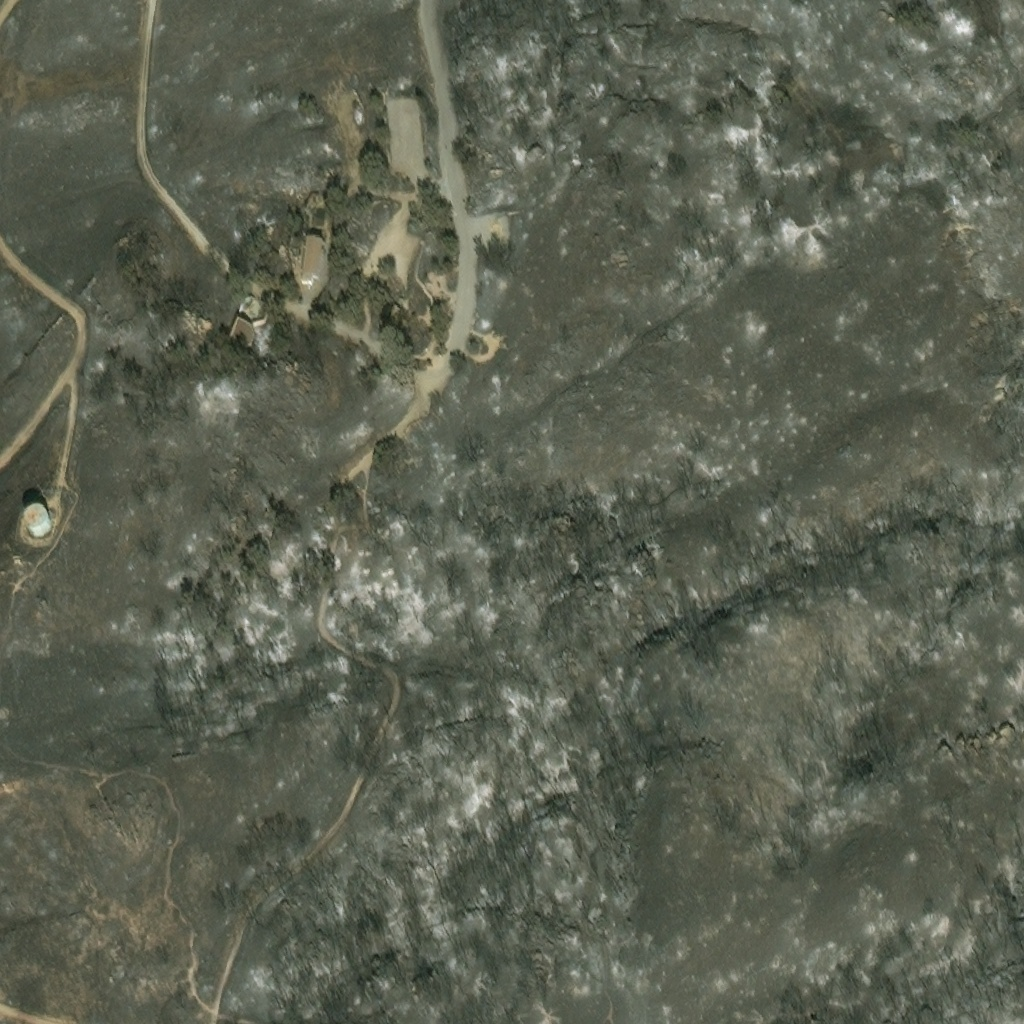0 no-damage: (237, 295, 268, 334), (301, 237, 324, 277), (25, 510, 53, 538), (229, 316, 253, 346)
